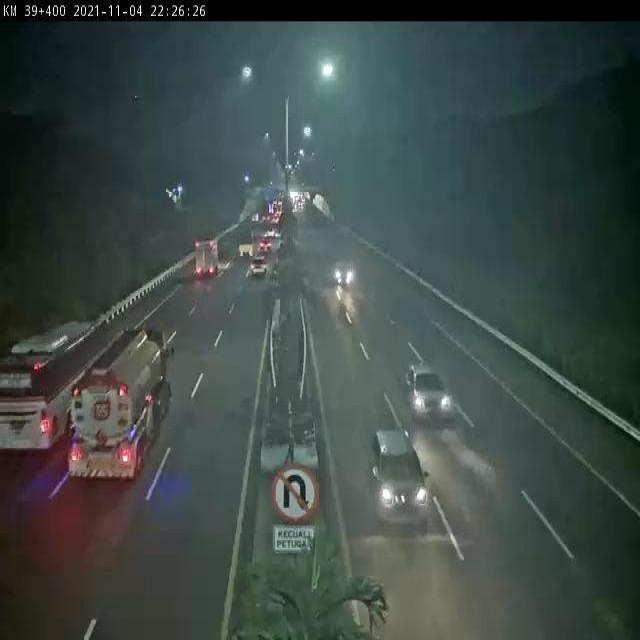bus-l-: (0, 316, 77, 459)
car: (372, 429, 429, 527), (406, 364, 453, 420), (334, 261, 355, 287), (251, 256, 266, 276), (260, 239, 271, 253)
truck-l-: (195, 240, 219, 275)
truck-m-: (239, 231, 254, 256)
truck-xl-: (70, 325, 170, 480)
